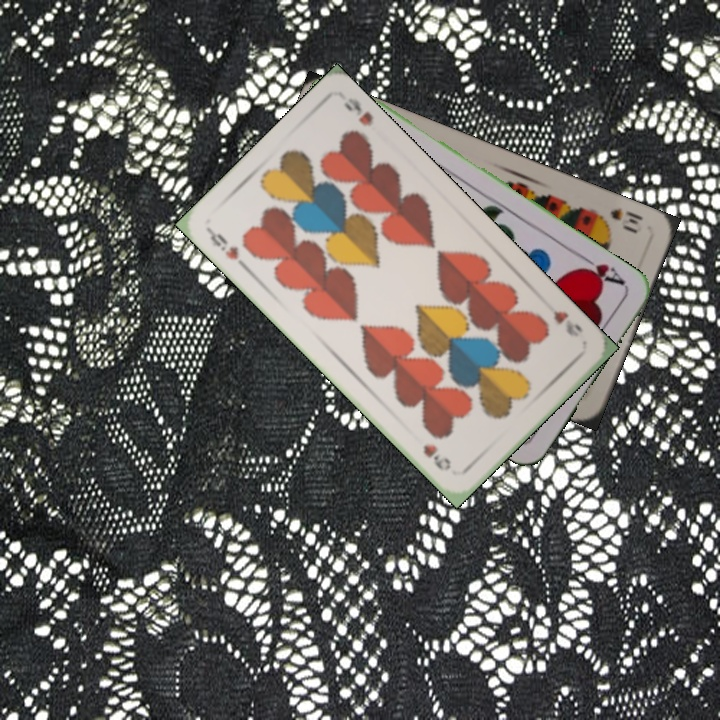H9: (204, 225, 241, 263), (548, 306, 585, 340)
HA: (574, 250, 628, 289)
S10: (591, 204, 645, 236)
